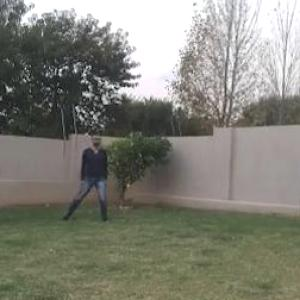follow: (83, 130, 106, 221)
